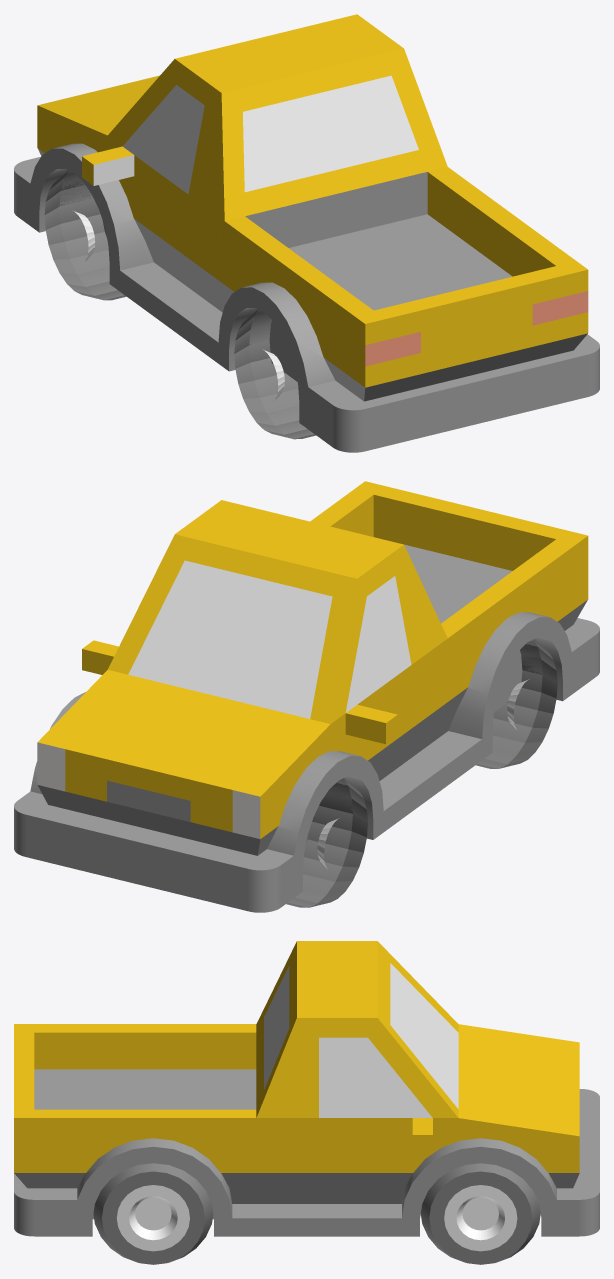
Rendered from truck.glb.
3 renders of one model, top to bottom at view 1: azimuth 30°, elevation 25°; view 2: azimuth 150°, elevation 25°; view 3: azimuth 270°, elevation 25°, orthographic. The views are drawn at different scales.
Visible parts, largest first — view 1: body; view 2: body; view 3: body.
Boxes of the visible parts, bbox=[...] form: body: bbox=[14, 14, 599, 452]; body: bbox=[14, 481, 599, 912]; body: bbox=[14, 941, 599, 1264].
Size of the model in its own units: 1.5 by 1.3 by 2.9.
